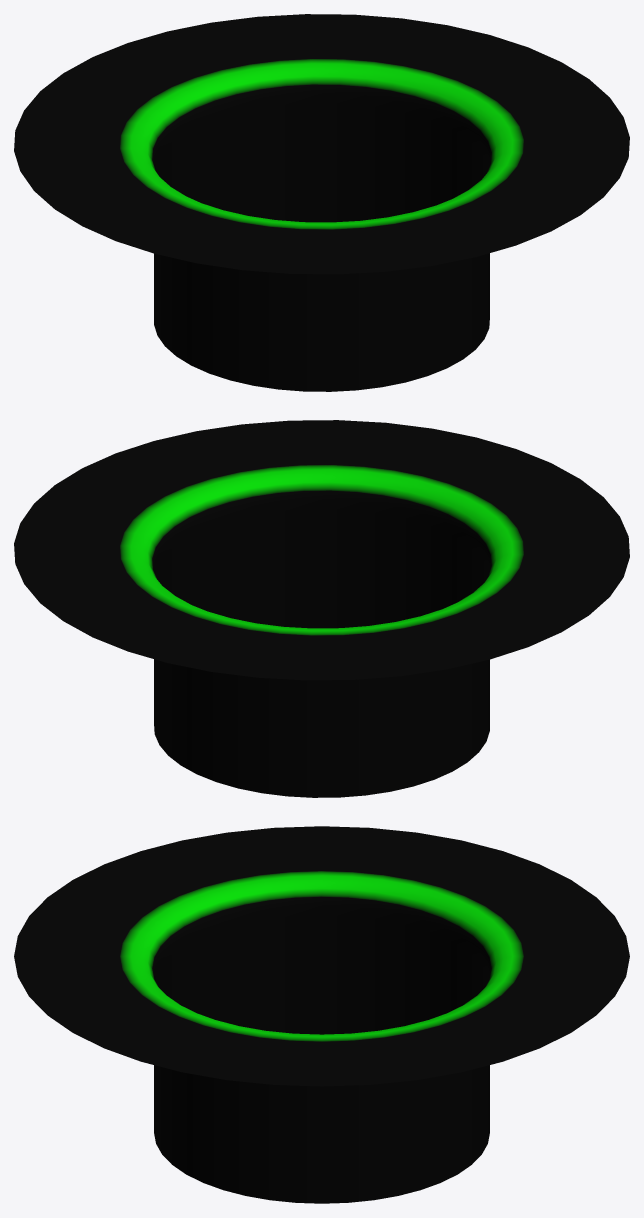
The model's file is fallwater_big.fbx.
3 renders of one model, top to bottom at view 1: azimuth 30°, elevation 25°; view 2: azimuth 150°, elevation 25°; view 3: azimuth 270°, elevation 25°, orthographic.
Visible parts, largest first — view 1: pCylinder6; view 2: pCylinder6; view 3: pCylinder6.
Boxes of the visible parts, left/top/right/bottom form: pCylinder6: left=14, top=14, right=629, bottom=391; pCylinder6: left=14, top=420, right=629, bottom=797; pCylinder6: left=14, top=826, right=629, bottom=1203.
Bounding box in the file's own units: 61.39 × 19.39 × 61.39.
